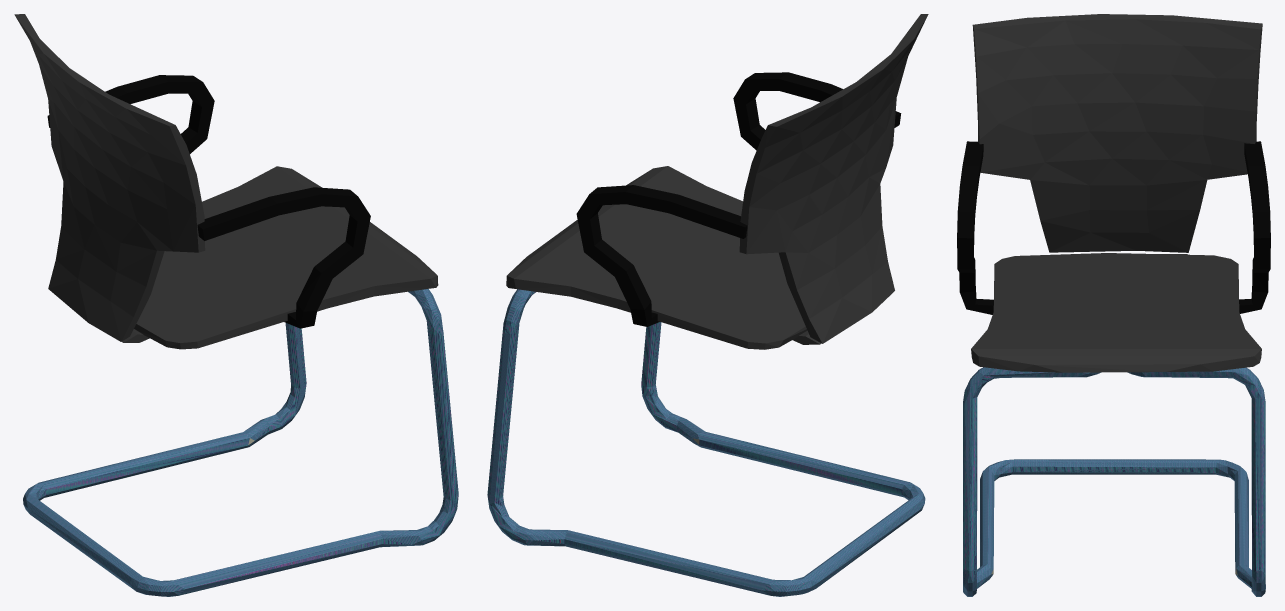
3 renders of one model, left to right at view 1: azimuth 30°, elevation 25°; view 2: azimuth 150°, elevation 25°; view 3: azimuth 270°, elevation 25°, orthographic. The views are drawn at different scales.
Visible parts, largest first — view 1: mesh6.002_mesh6-geometry; view 2: mesh6.002_mesh6-geometry; view 3: mesh6.002_mesh6-geometry.
Boxes of the visible parts, x1=… form: mesh6.002_mesh6-geometry: x1=14, y1=14, x2=458, y2=596; mesh6.002_mesh6-geometry: x1=487, y1=14, x2=928, y2=596; mesh6.002_mesh6-geometry: x1=957, y1=14, x2=1270, y2=596.
Bounding box in the file's own units: 0.4983 × 0.7355 × 0.4611.
